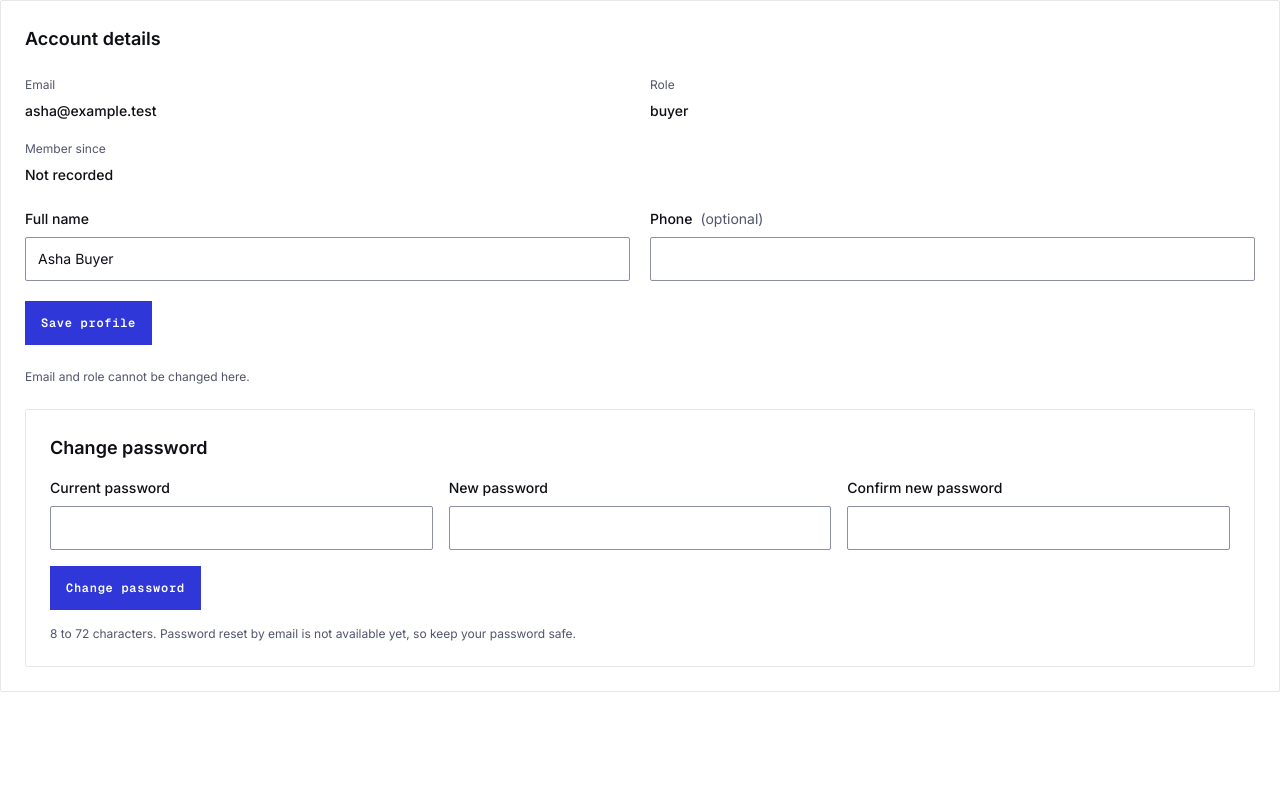
it: keeps unsaved edits when the profile is refetched in the background (M13 regression)
Replace the text in the field labelled "Full name" with "Asha Typing" at (328, 259), box [25,237,630,281]
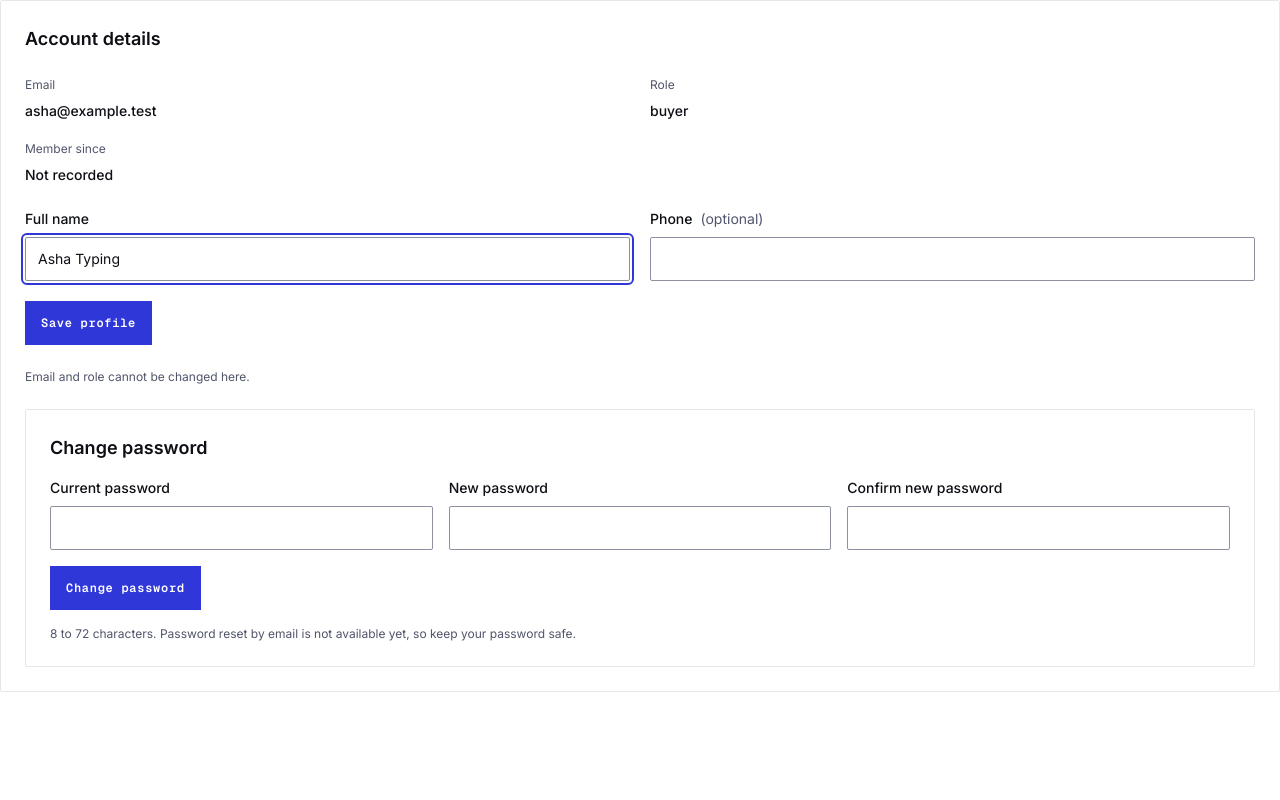
Click the button "Save profile" at (88, 323), box [25,301,152,345]
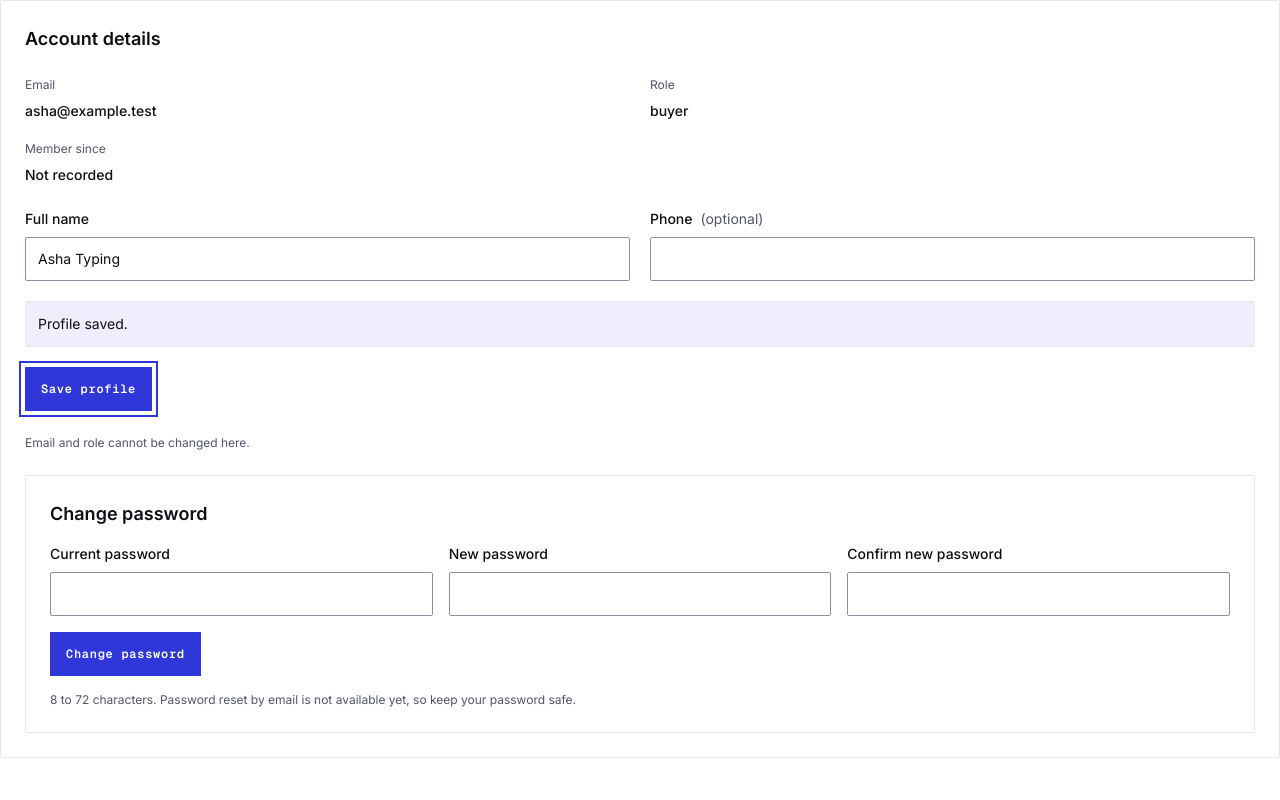
expect the text "Profile saved." is shown: met, box [25,301,1255,347]
